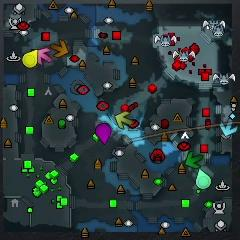p2: (195, 168, 212, 190)
p3: (96, 123, 112, 143)
p4: (23, 48, 38, 68)
x1: (37, 48, 52, 65)
x2: (115, 111, 133, 129)
x3: (220, 120, 238, 137)
x4: (185, 152, 204, 169)
x5: (51, 39, 69, 58)
